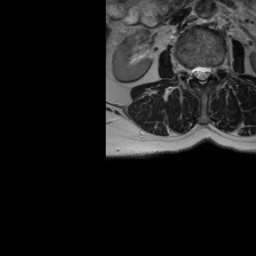CCS_normal: (199, 59, 206, 88)
LFS_normal: (213, 58, 221, 78)
LLS_normal: (206, 59, 213, 81)
RFS_normal: (184, 60, 192, 85)
RLS_normal: (192, 60, 199, 84)
